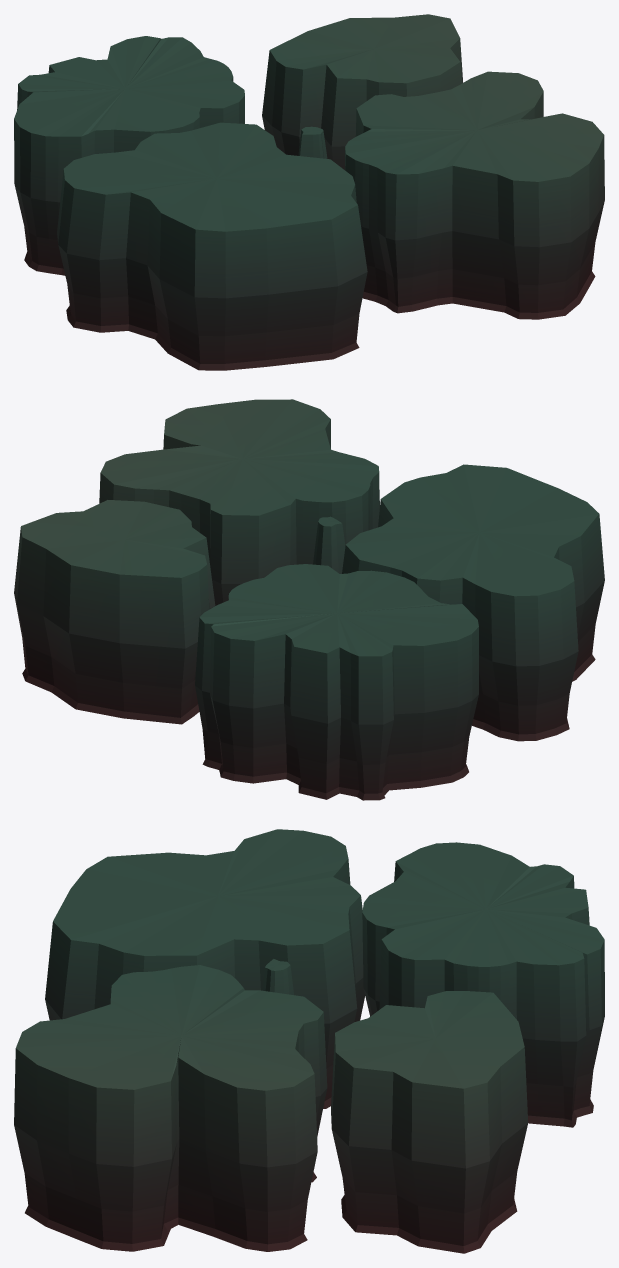
File: SM_Vista_Rocks.fbx
3 renders of one model, top to bottom at view 1: azimuth 30°, elevation 25°; view 2: azimuth 150°, elevation 25°; view 3: azimuth 270°, elevation 25°, orthographic. The views are drawn at different scales.
Visible parts, largest first — view 1: SM_Vista_Rocks; view 2: SM_Vista_Rocks; view 3: SM_Vista_Rocks.
Boxes of the visible parts, left/top/right/bottom form: SM_Vista_Rocks: left=14, top=14, right=604, bottom=370; SM_Vista_Rocks: left=14, top=399, right=604, bottom=800; SM_Vista_Rocks: left=14, top=829, right=604, bottom=1253.
Size of the model in its own units: 229370 by 67185 by 214979.
1 material, 1 textured.
